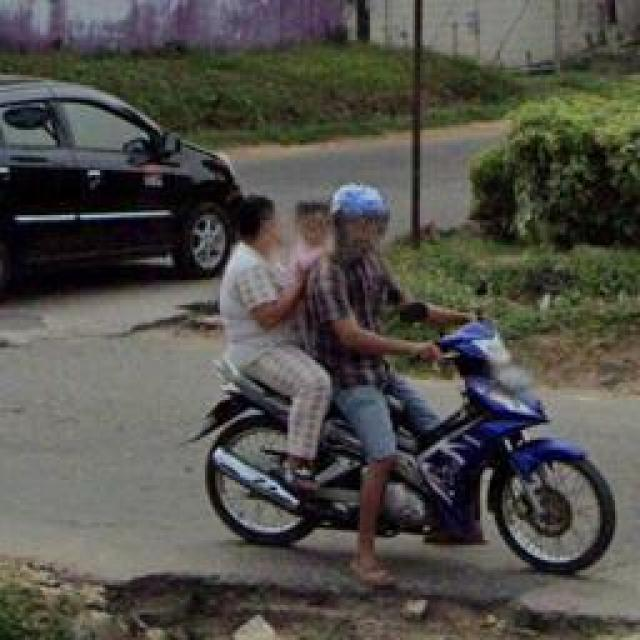car: (0, 53, 253, 296)
motorbike: (180, 175, 618, 588)
